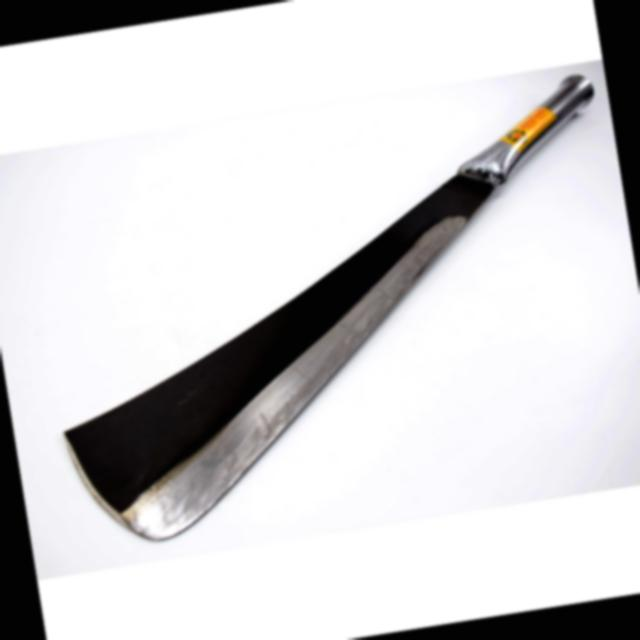eto: (56, 68, 603, 551)
